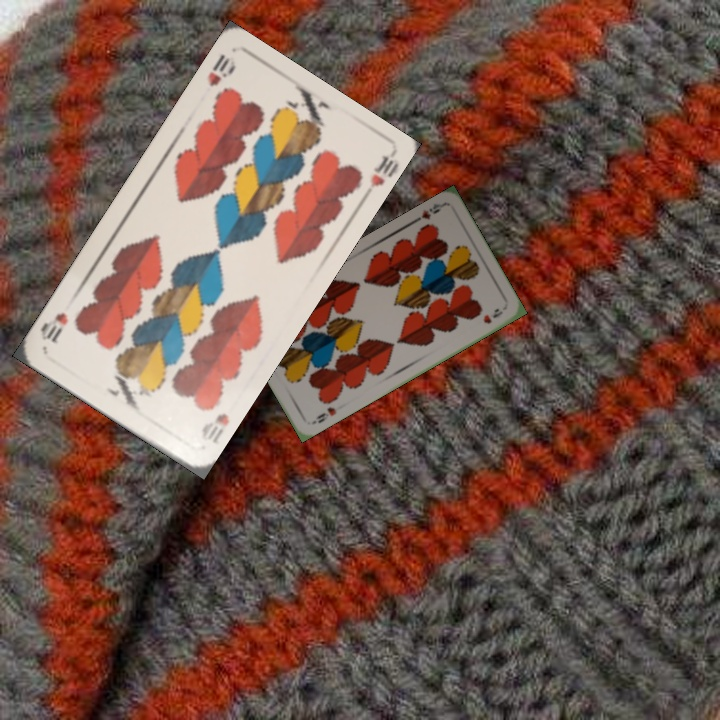H10: (203, 50, 239, 89), (197, 409, 232, 445)
H9: (409, 199, 447, 225), (312, 403, 339, 426)
